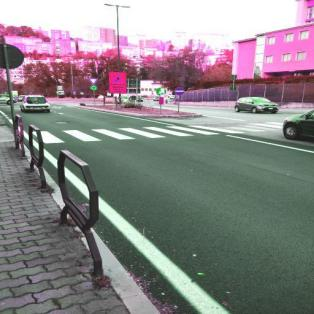Paso de Cebra: (61, 122, 137, 146), (164, 118, 246, 138)
